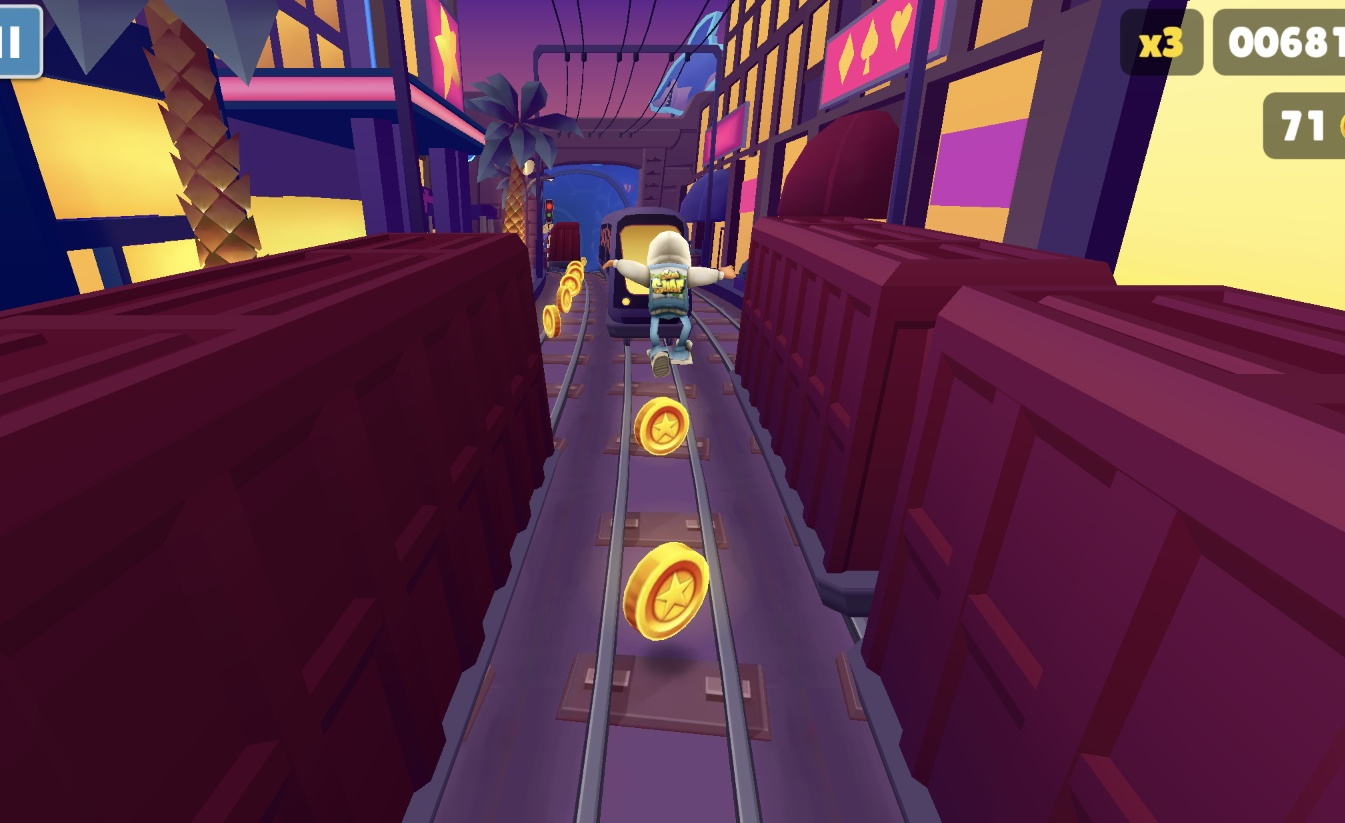train: (736, 213, 1344, 823), (0, 234, 555, 823), (598, 209, 691, 341), (543, 221, 583, 274)
